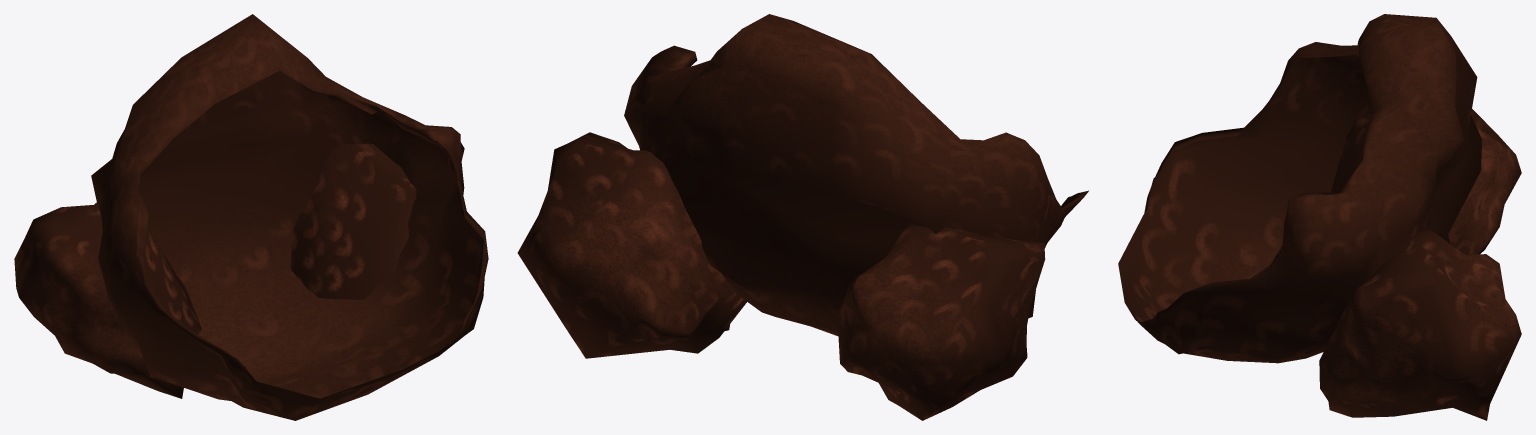
The model's file is hair_luciana.dae.
3 renders of one model, left to right at view 1: azimuth 30°, elevation 25°; view 2: azimuth 150°, elevation 25°; view 3: azimuth 270°, elevation 25°, orthographic. The views are drawn at different scales.
Parts seen in each view (by area): view 1: hair_Main, hair_PomPomR, hair_PomPomL; view 2: hair_Main, hair_PomPomL, hair_PomPomR; view 3: hair_Main, hair_PomPomL, hair_PomPomR.
Part boxes in pixels (x1,y1,x2,y2): hair_Main: (91,14,488,420); hair_PomPomR: (14,202,201,398); hair_PomPomL: (290,143,416,299); hair_Main: (624,14,1088,335); hair_PomPomL: (517,132,746,358); hair_PomPomR: (837,224,1045,420); hair_Main: (1118,14,1481,363); hair_PomPomL: (1319,228,1521,420); hair_PomPomR: (1331,109,1521,254).
Size of the model in its own units: 110 by 79.1 by 83.92.
2 materials, 2 textured.
